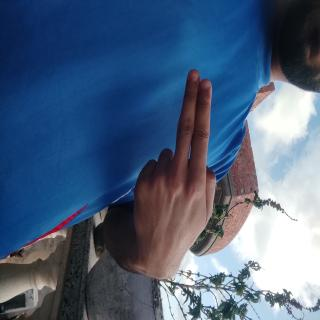GHAYN: (52, 129, 208, 261)
